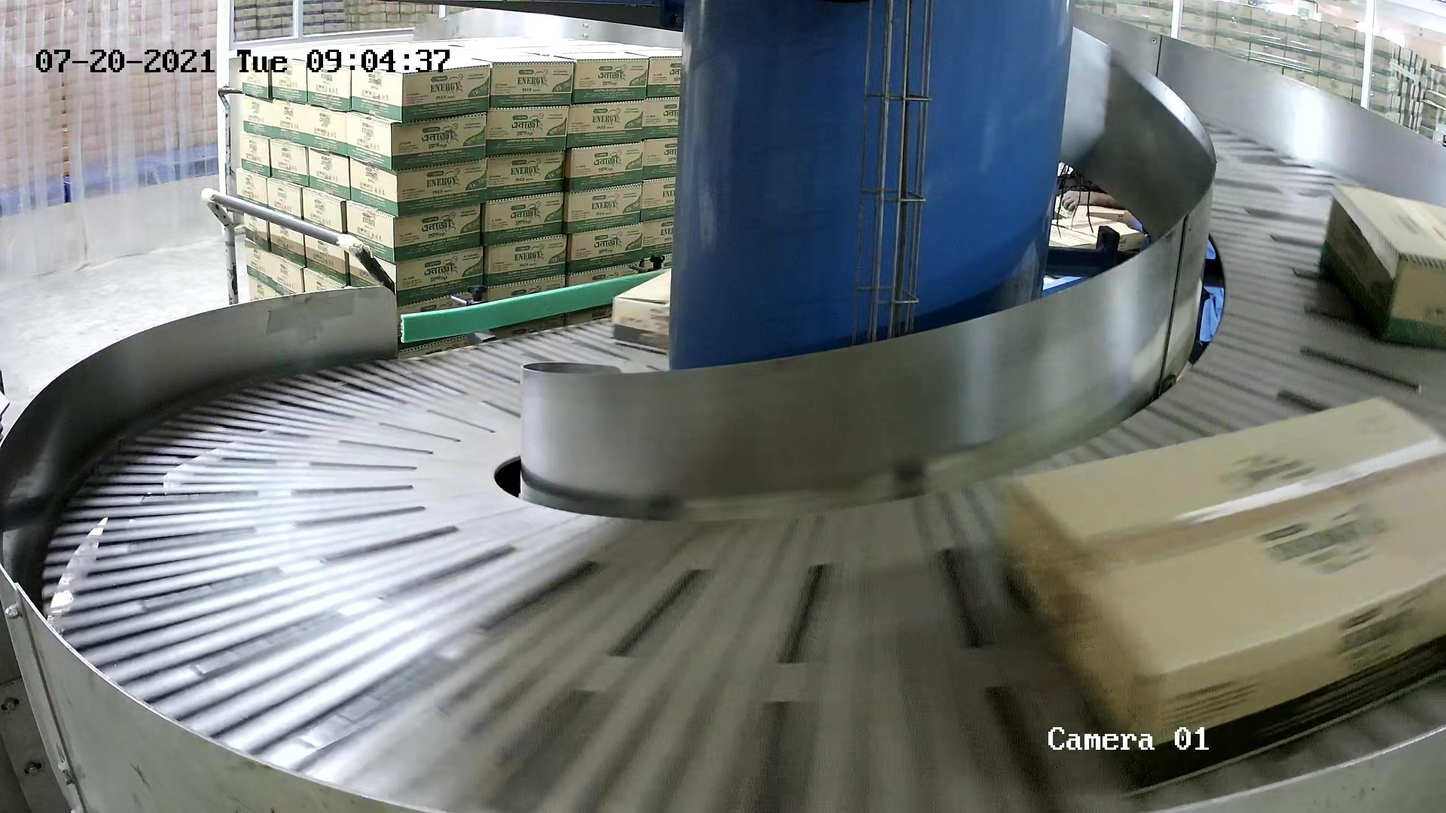Box: (997, 392, 1446, 798), (1318, 183, 1446, 349), (610, 269, 672, 354)
